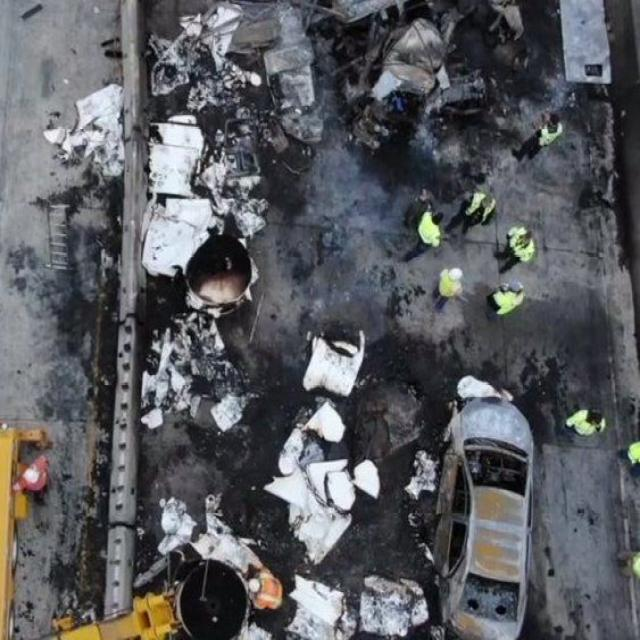traffic_incident: (168, 0, 495, 156), (436, 388, 554, 639)
